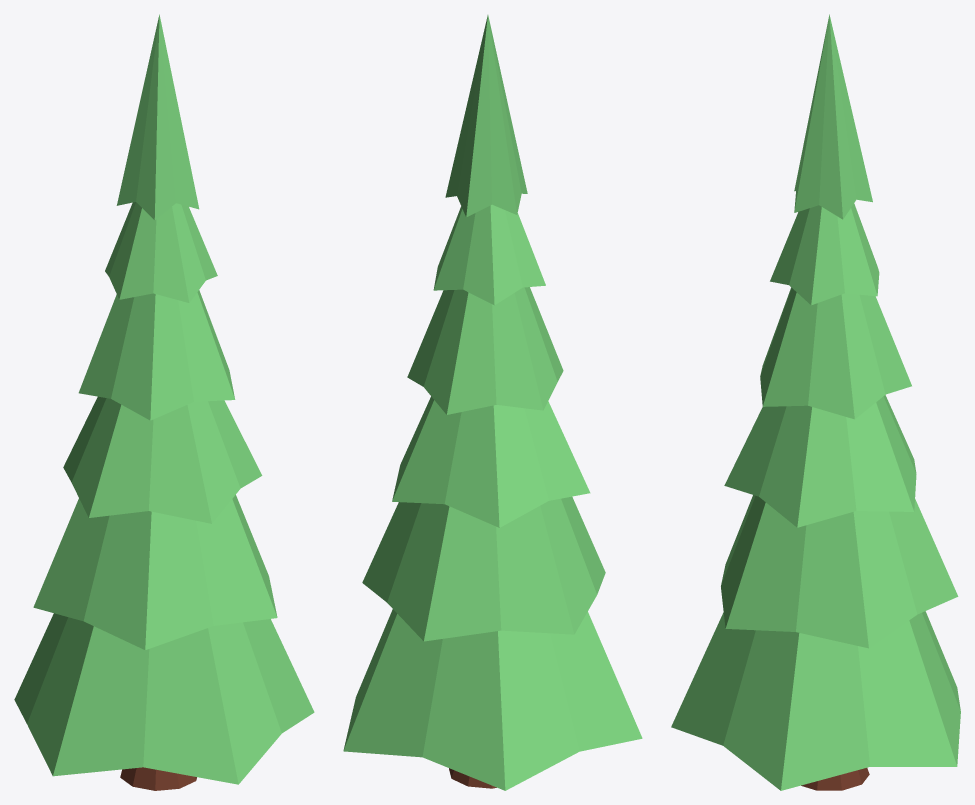
Rendered from tree.glb.
3 renders of one model, left to right at view 1: azimuth 30°, elevation 25°; view 2: azimuth 150°, elevation 25°; view 3: azimuth 270°, elevation 25°, orthographic.
Visible parts, largest first — view 1: tree; view 2: tree; view 3: tree.
Boxes of the visible parts, x1=… form: tree: x1=14, y1=14, x2=314, y2=790; tree: x1=343, y1=15, x2=642, y2=790; tree: x1=671, y1=14, x2=960, y2=790.
Size of the model in its own units: 5.79 by 16.07 by 5.55.
